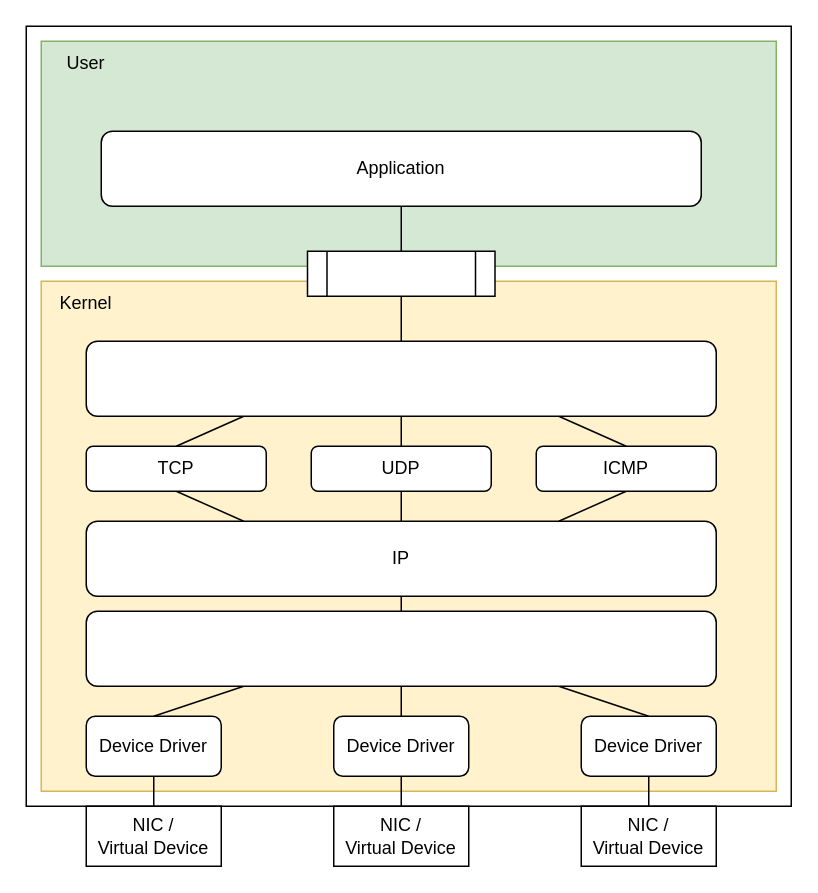
The diagram is 818 pixels wide and 893 high, and some of its shapes have lost their labels. The shapes that lost their labels are listed below. From the top down, each one's centre as x and y in pixels, then its label:
At point 400,273: "System calls".
At point 400,378: "Socket".
At point 400,648: "Queueing Discipline".
